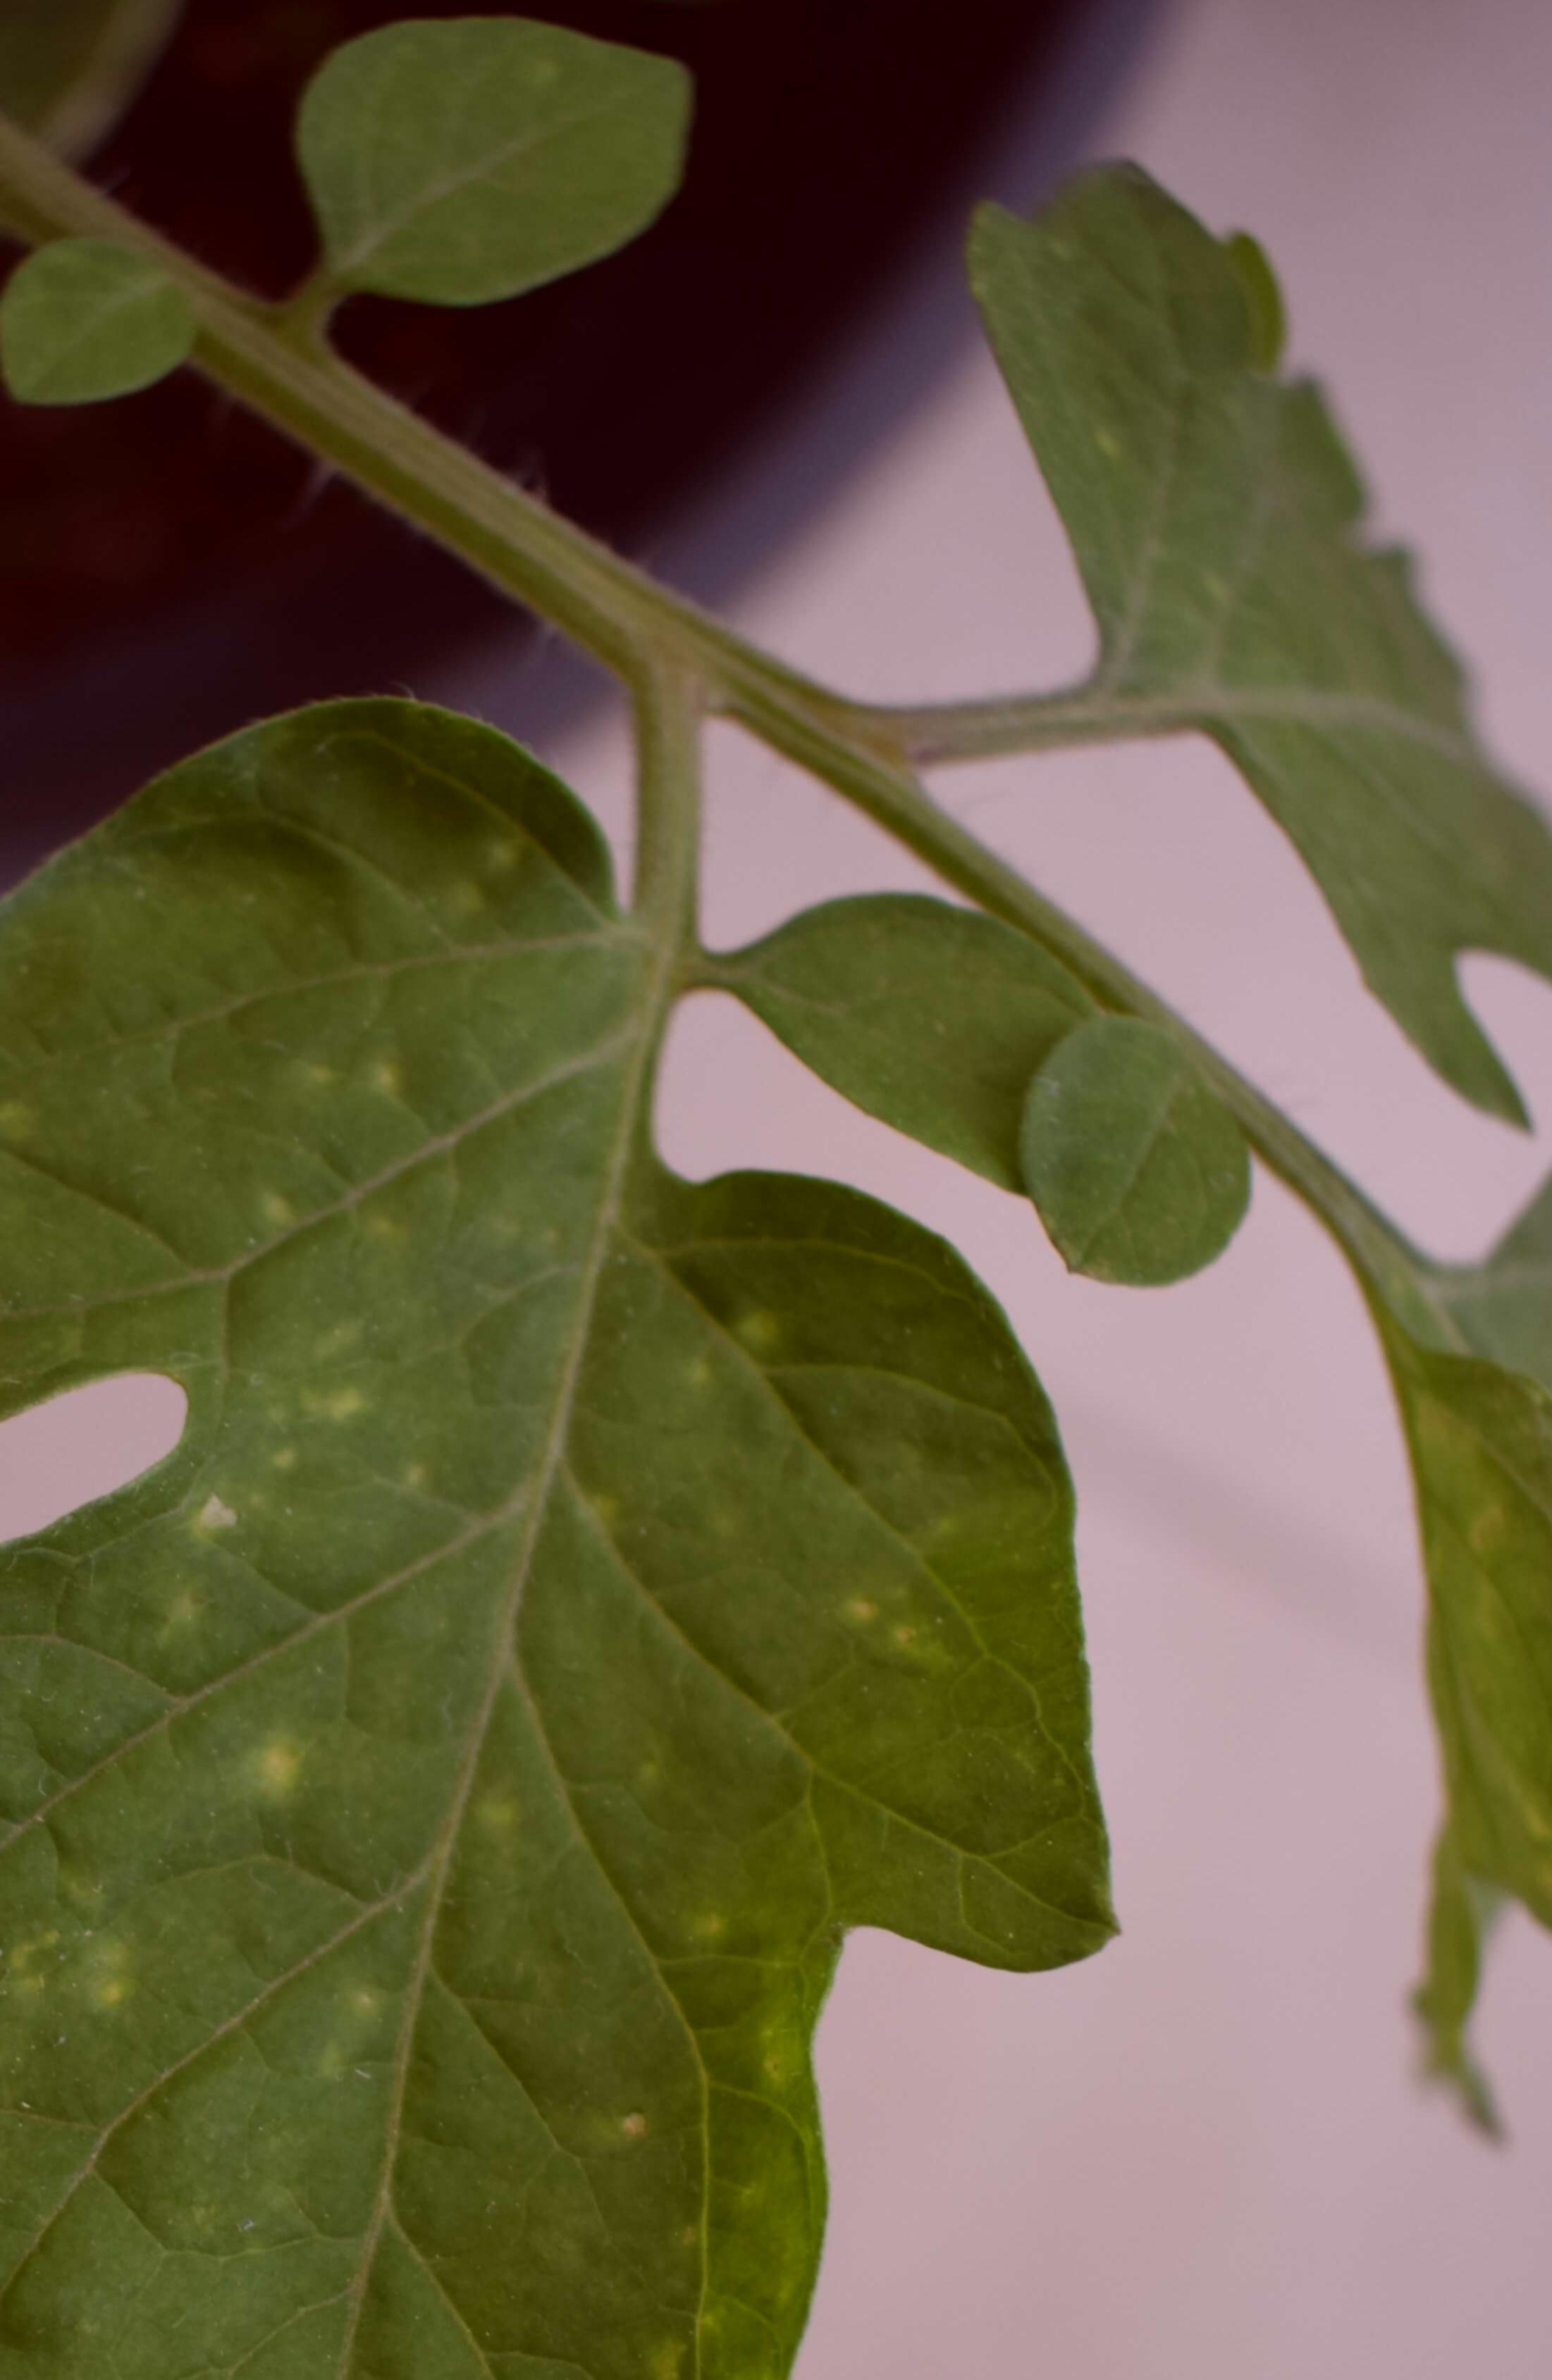Tomato mold leaf: (0, 713, 1141, 2380)
